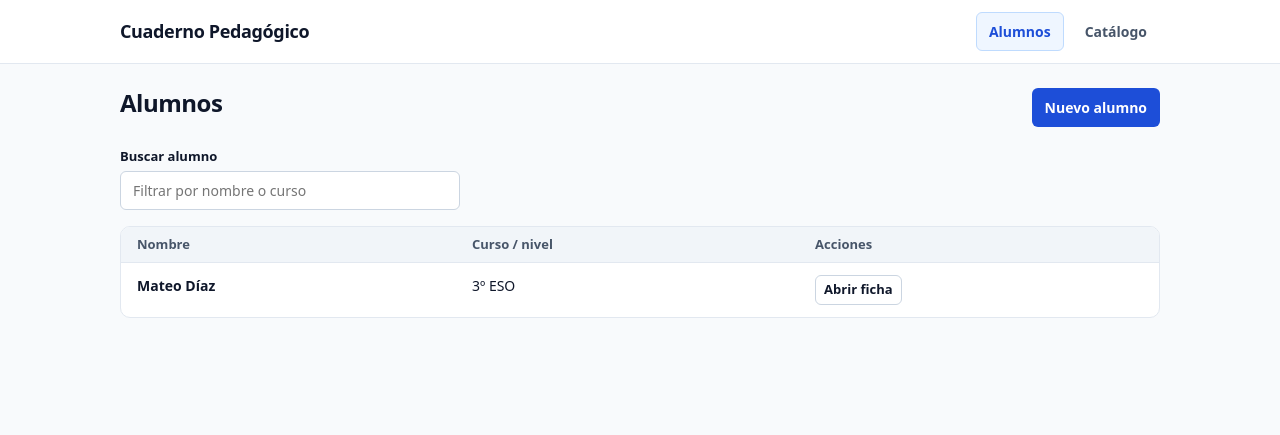
it: App navigation › navigates between students list, student detail, and academic catalog
Expected: the text "Mateo Díaz" is shown, [137,276,215,295]
# Switch to Catalog view via top nav
Click the button "Catálogo" at (1116, 32), box [1072,12,1160,51]
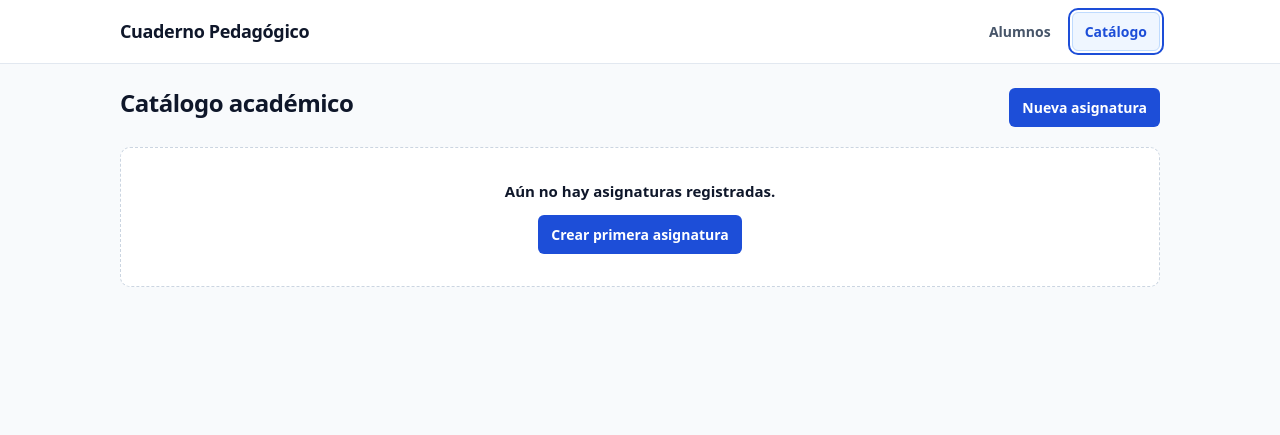
Expected: the heading "Catálogo académico" is shown, [120,88,353,118]
# Back to Students and open student detail
Click the button "Alumnos" at (1020, 32), box [976,12,1064,51]
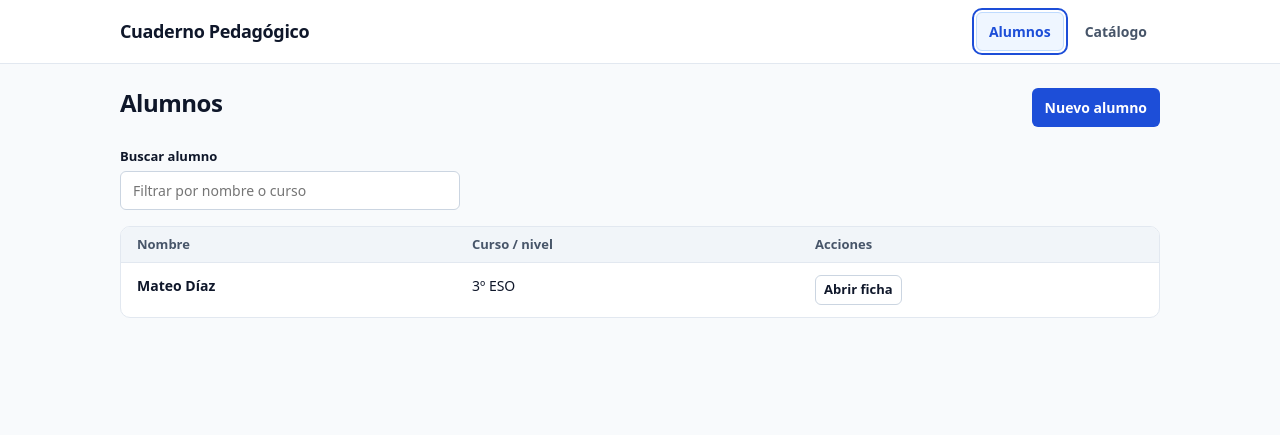
Click the button with aria-label "Abrir ficha de Mateo Díaz" at (858, 290), box [815,275,902,304]
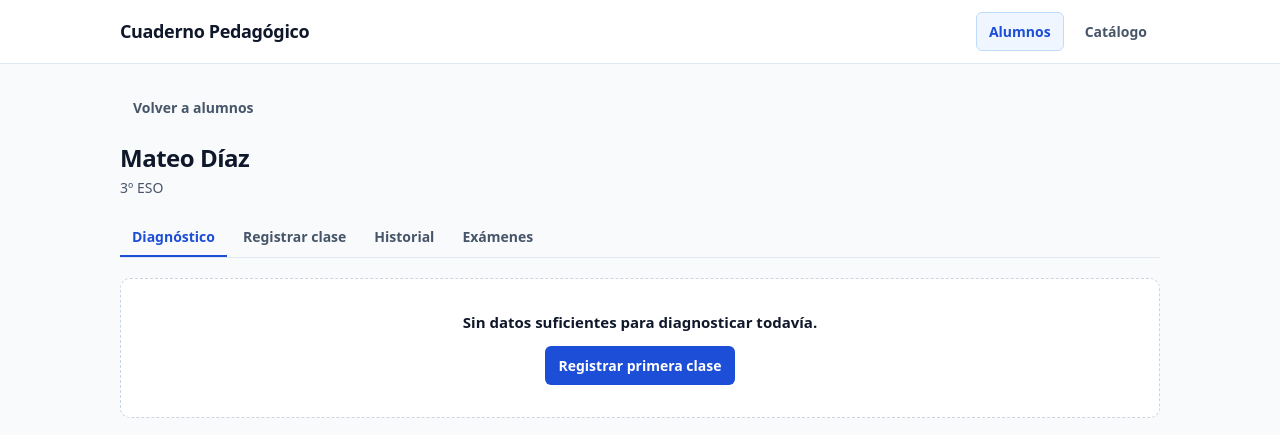
Expected: the heading "Mateo Díaz" is shown, [120,143,249,173]
